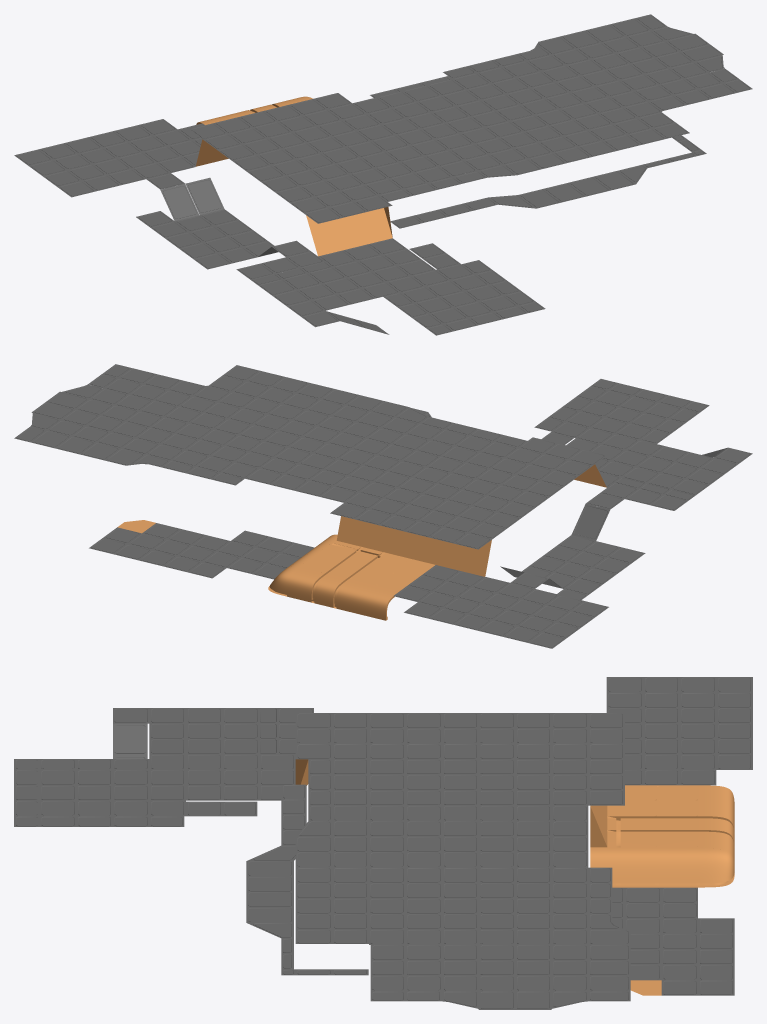
Rendered from Arena_001_Roof.fbx.
3 renders of one model, top to bottom at view 1: azimuth 30°, elevation 25°; view 2: azimuth 150°, elevation 25°; view 3: azimuth 270°, elevation 25°, orthographic. The views are drawn at different scales.
Parts seen in each view (by area): view 1: Arena_001_Roof; view 2: Arena_001_Roof; view 3: Arena_001_Roof.
Part boxes in pixels (x1,y1,x2,y2): Arena_001_Roof: (14, 14, 752, 335); Arena_001_Roof: (14, 364, 752, 648); Arena_001_Roof: (14, 677, 752, 1009).
Size of the model in its own units: 9681 by 903 by 8081.
